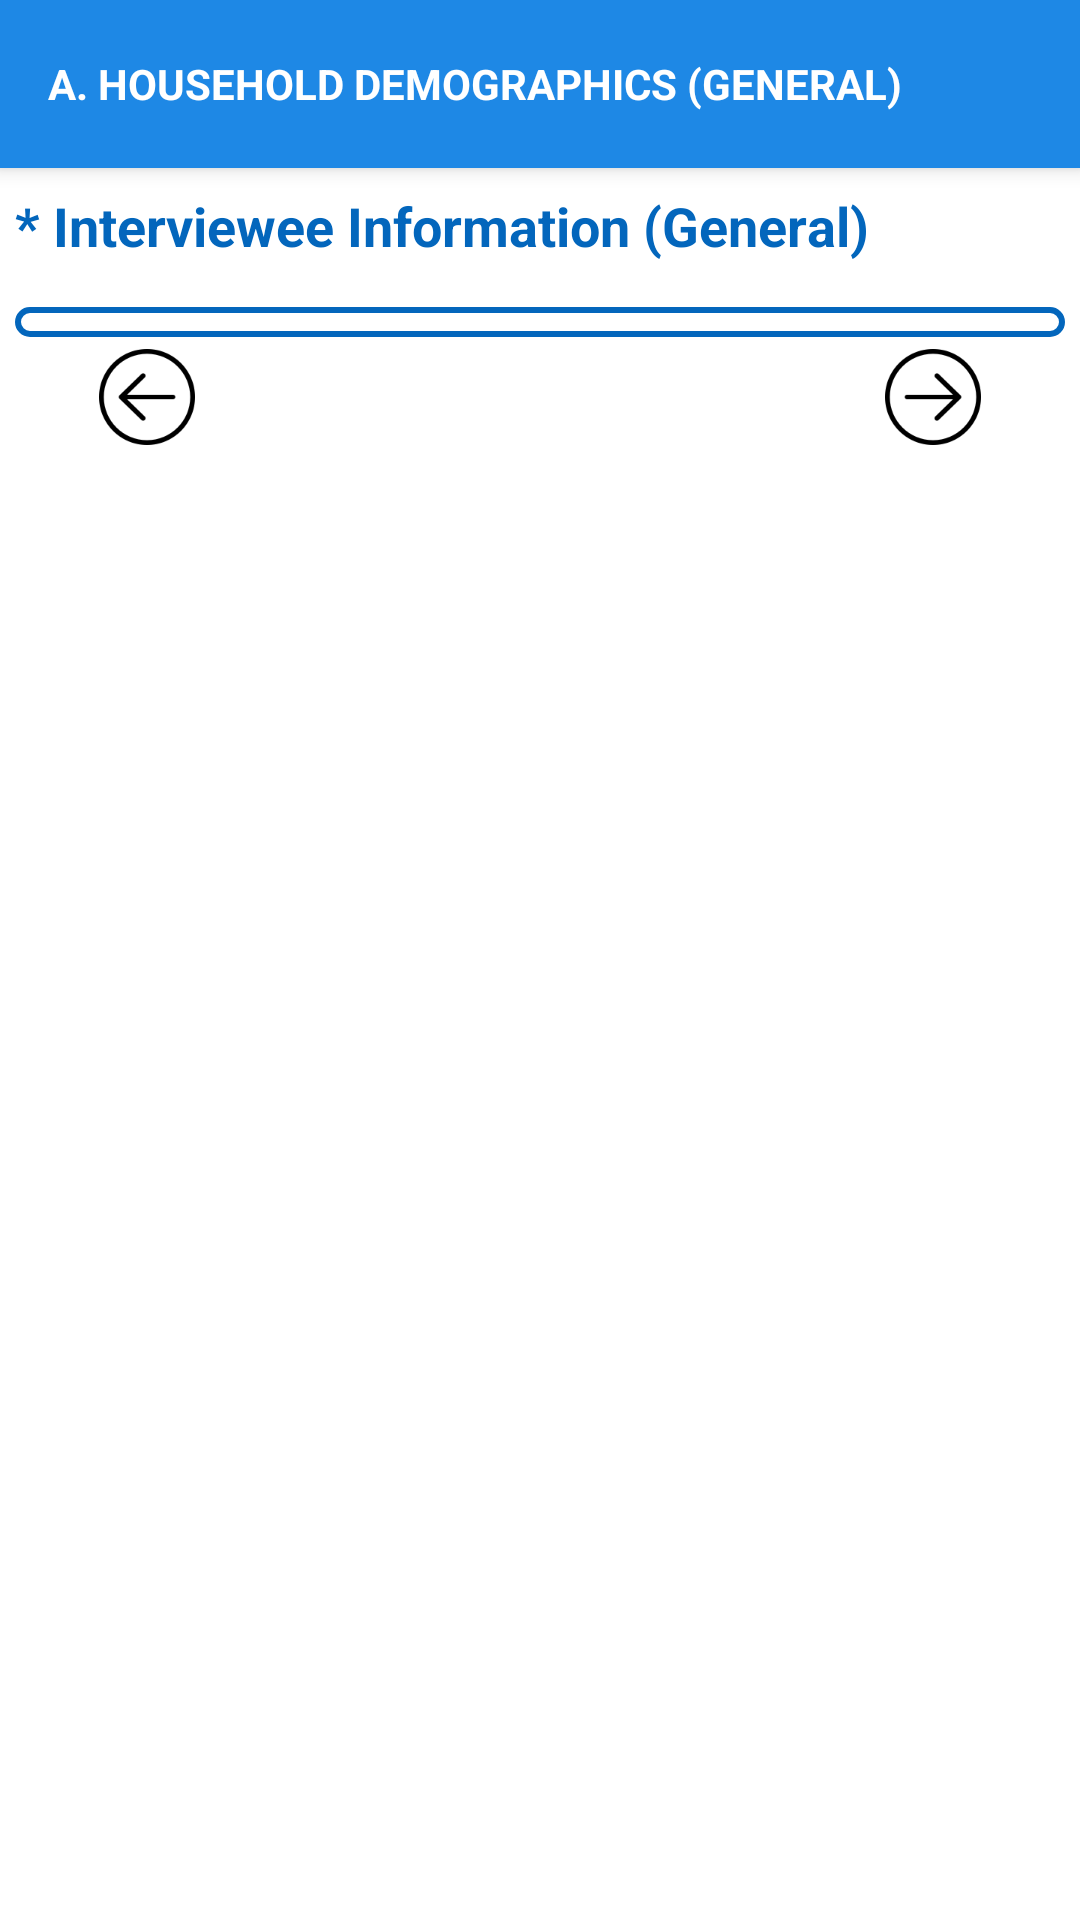

Locate icon controls on the screen. Image size 1080 × 1920, boxes as {"left": x1, "top": y1, "right": x2, "bottom": y2}.
back: {"left": 99, "top": 349, "right": 195, "bottom": 445}
next: {"left": 885, "top": 349, "right": 981, "bottom": 445}
